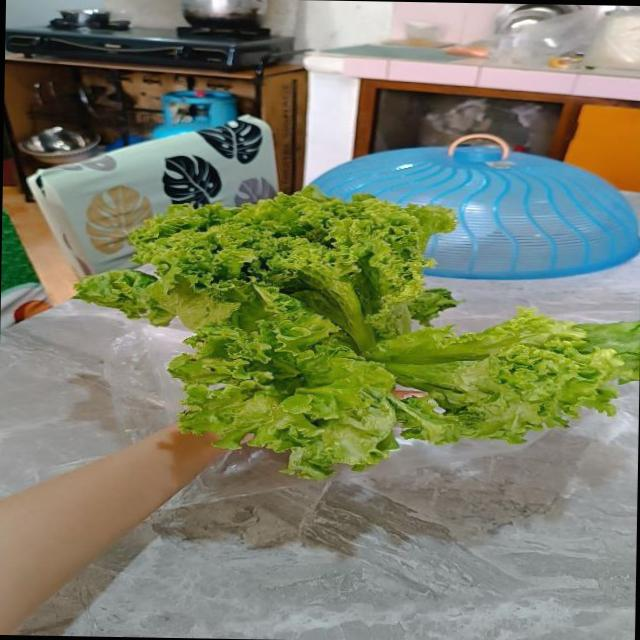Lettuce-Ready-to-Harvest: (78, 187, 640, 477)
